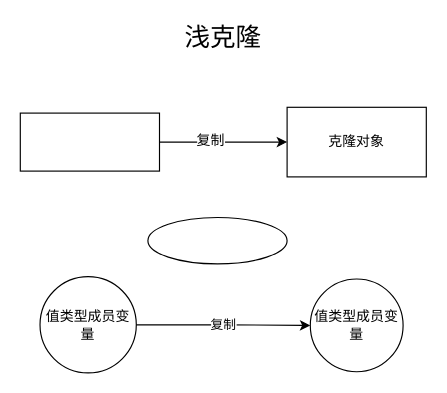
Image size: 447x393. Some labels were removed from this diagram. The shapes that lost their labels are listed below. From the top down, each one's centre as x and y in pixels, then its label:
the point at 89,141: 原型对象
the point at 217,240: 引用类型成员变量
